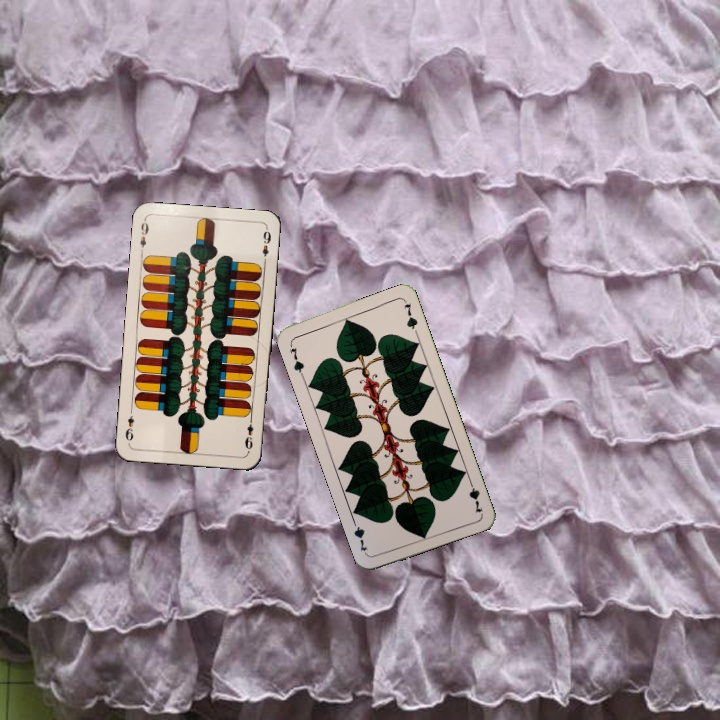E9: (241, 413, 256, 454), (136, 216, 151, 257)
G7: (465, 475, 485, 516), (286, 343, 307, 378)
